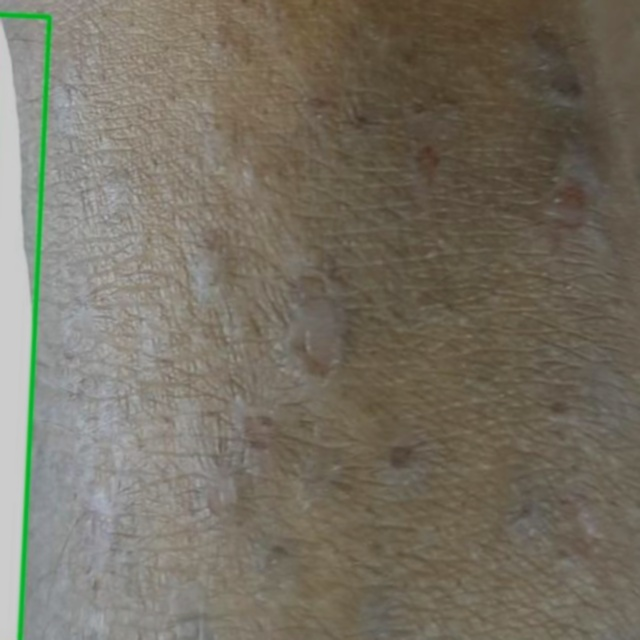Atopic Dermatitis: (0, 14, 49, 639)
